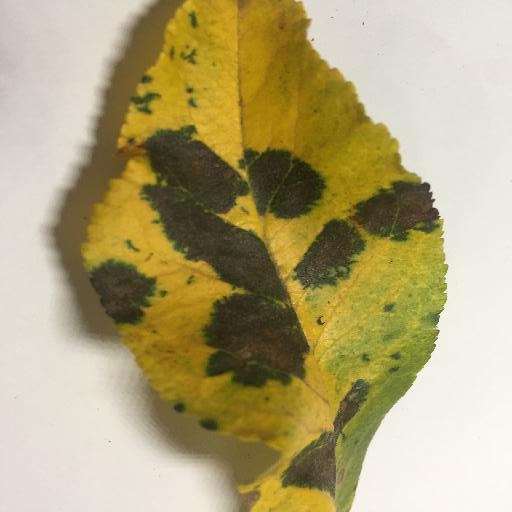Brown_Spot: (151, 191, 283, 284), (290, 389, 372, 498), (210, 309, 296, 368), (155, 135, 234, 199), (296, 231, 357, 286), (354, 193, 439, 232), (245, 162, 313, 210), (92, 262, 145, 320)
